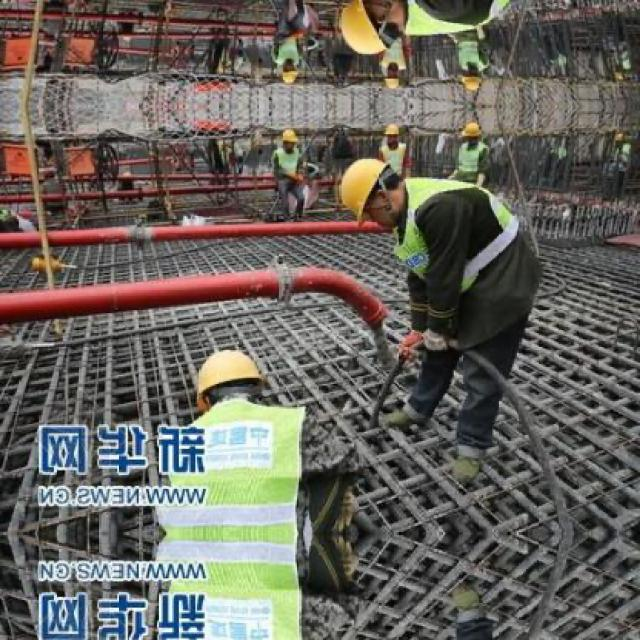con casco: (183, 355, 291, 444), (329, 128, 414, 217), (448, 114, 512, 144), (267, 128, 303, 167), (389, 122, 420, 142)
